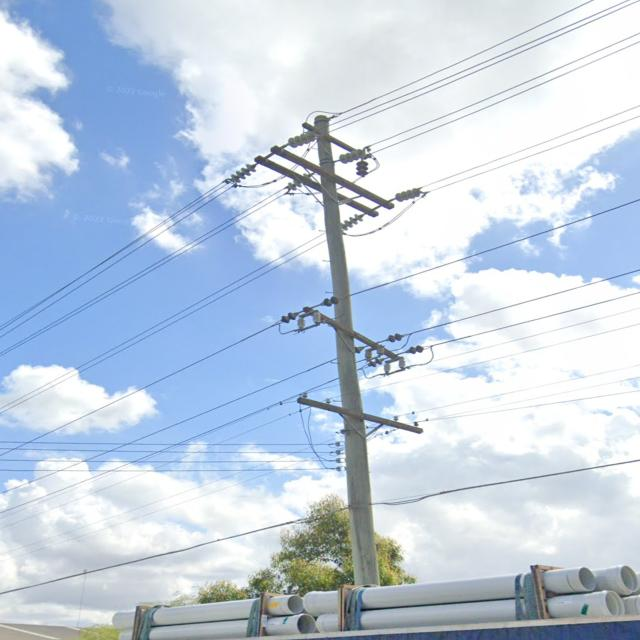HV-transmission: (230, 116, 424, 373)
crossarm: (270, 143, 396, 209), (254, 154, 378, 218), (308, 305, 402, 362), (295, 392, 424, 433), (303, 119, 366, 156)
timber-pole: (314, 114, 381, 586)
